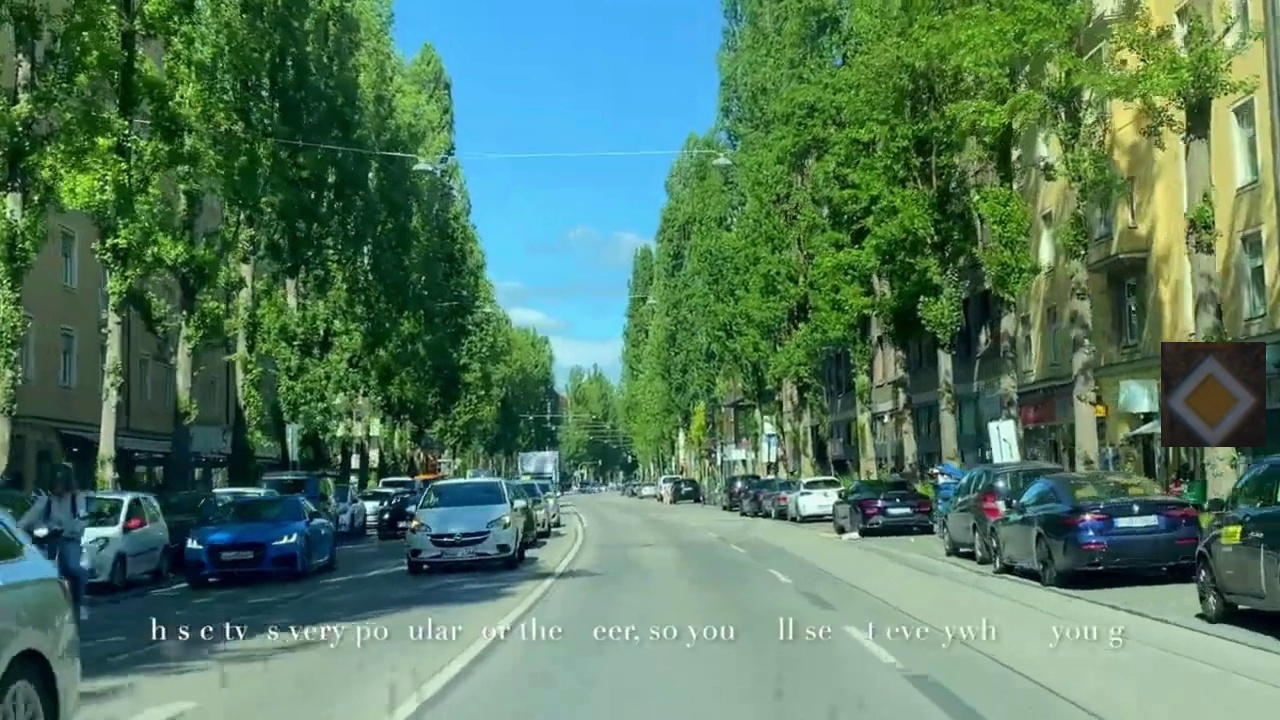Priority road: (1161, 342, 1266, 447)
